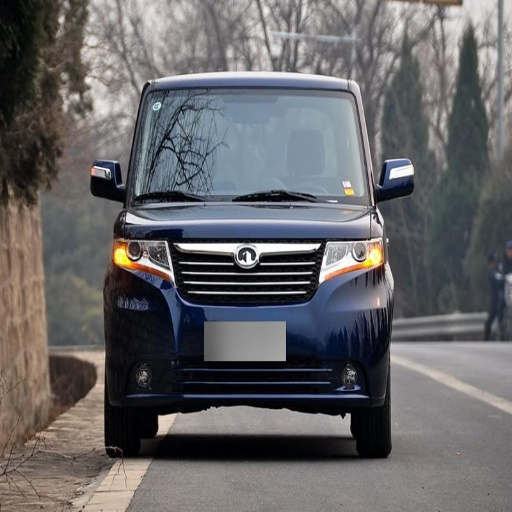front_bumper: (109, 228, 385, 410)
front_right_light: (117, 231, 170, 270)
hood: (126, 197, 374, 239)
left_mirror: (376, 158, 415, 202)
